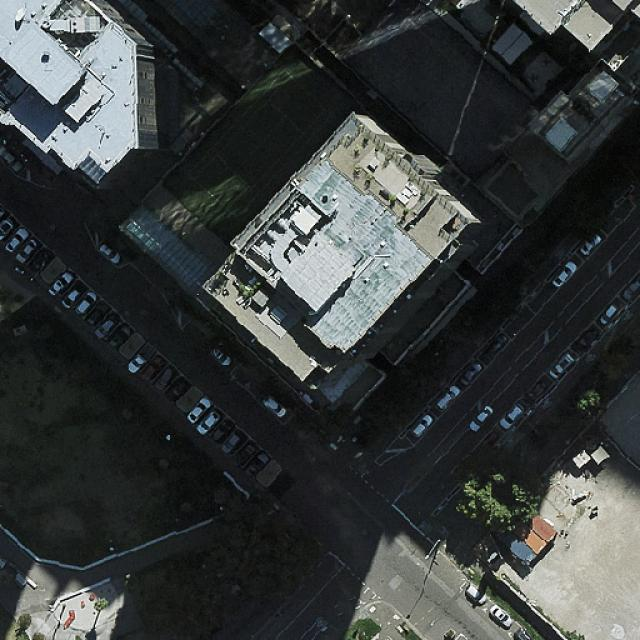Bike-Symbols: (586, 352, 599, 364), (316, 616, 327, 630), (542, 399, 554, 411), (623, 310, 634, 322)
